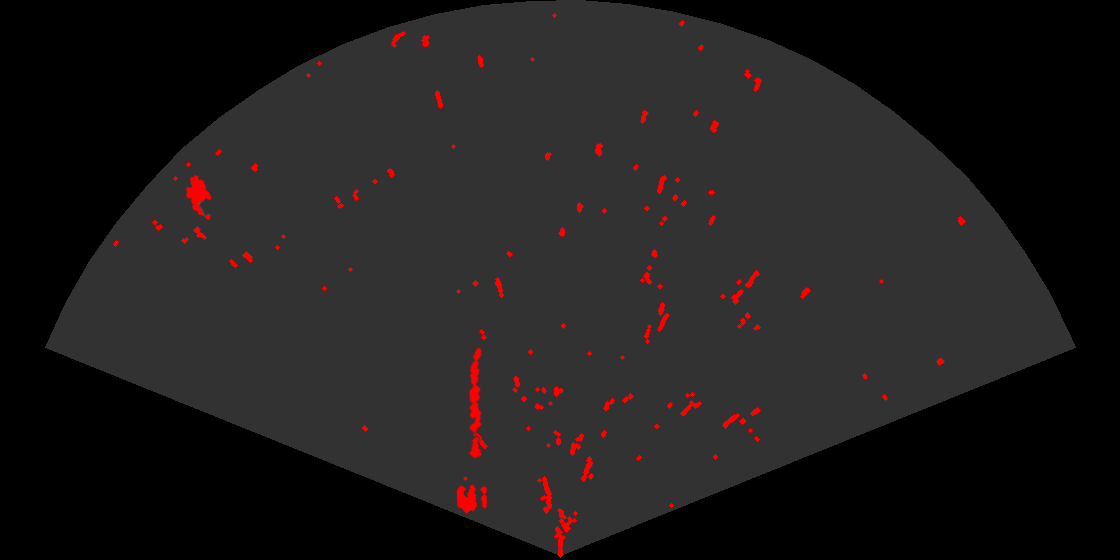AUV: (184, 173, 213, 221)
ball: (455, 483, 489, 515)
chain: (467, 346, 484, 459)
